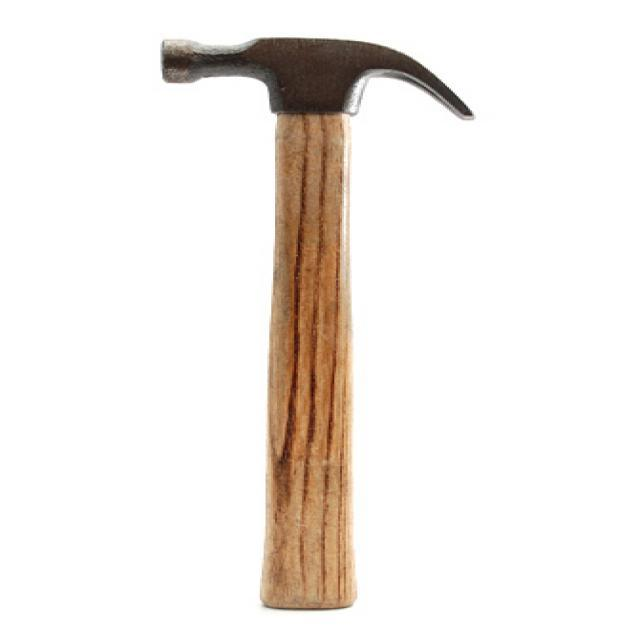hammer: (144, 27, 483, 621)
